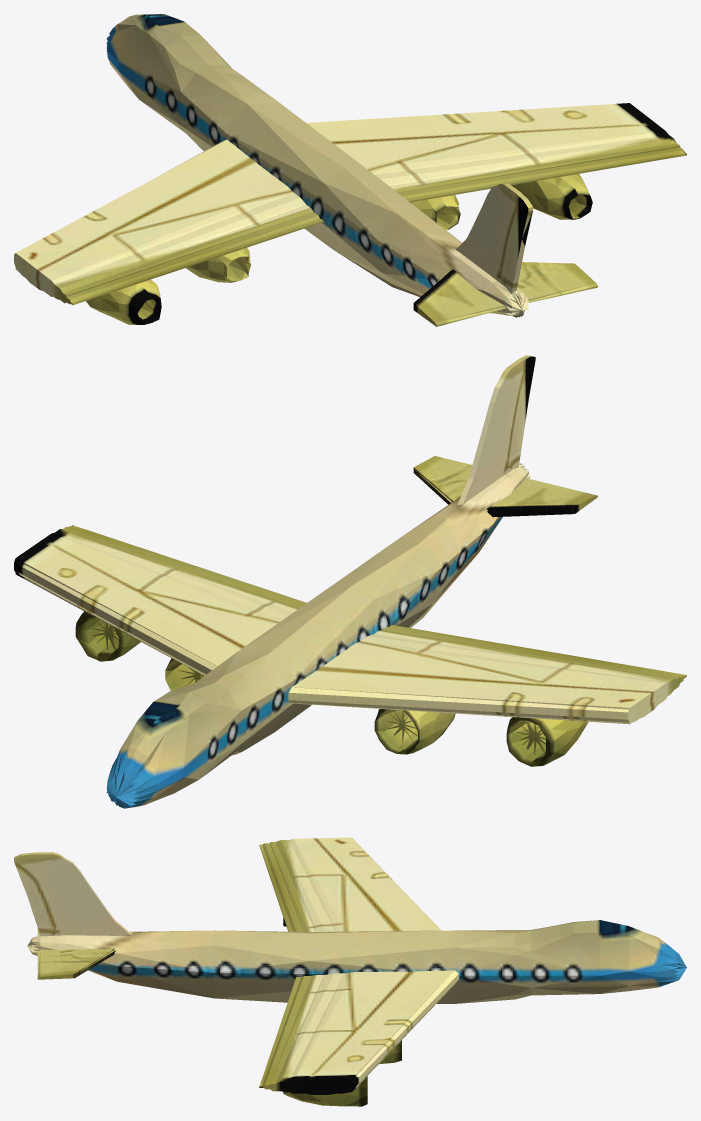
3 renders of one model, top to bottom at view 1: azimuth 30°, elevation 25°; view 2: azimuth 150°, elevation 25°; view 3: azimuth 270°, elevation 25°, orthographic. The views are drawn at different scales.
Parts seen in each view (by area): view 1: B747; view 2: B747; view 3: B747.
Part boxes in pixels (<box>): B747: <box>14,14,686,326</box>; B747: <box>14,355,686,808</box>; B747: <box>14,837,686,1106</box>.
Size of the model in its own units: 286 by 92.56 by 337.
Materials: 1 (1 with a texture image).
